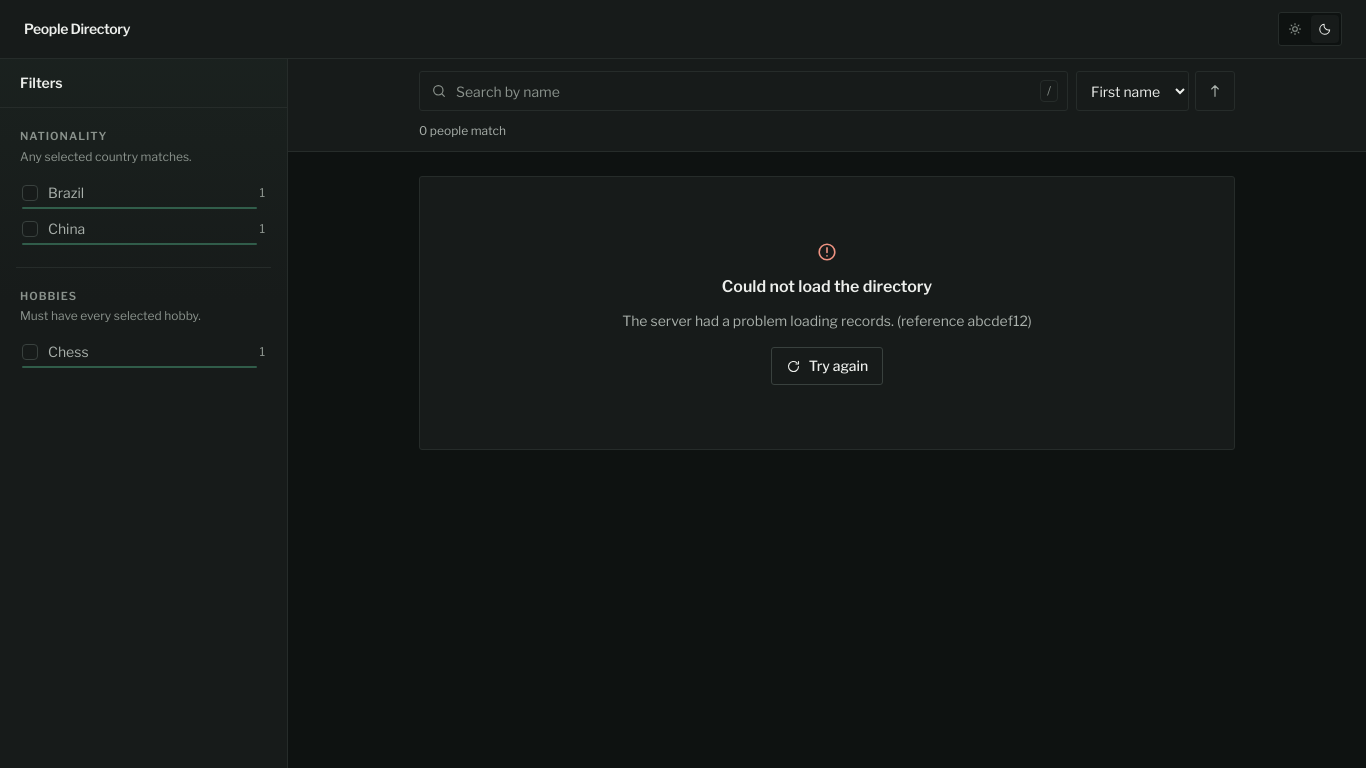
Scenario: App › shows the error state with a retry when the list fails
Expected: the message shows "Could not load the directory", x1=722 y1=277 x2=932 y2=296
Expected: the message shows "reference abcdef12", x1=622 y1=312 x2=1032 y2=329
What coordinates should you click on to do the following:
click the button "Try again"
I would click on:
 (827, 366)
Its box is x1=771 y1=347 x2=883 y2=385.
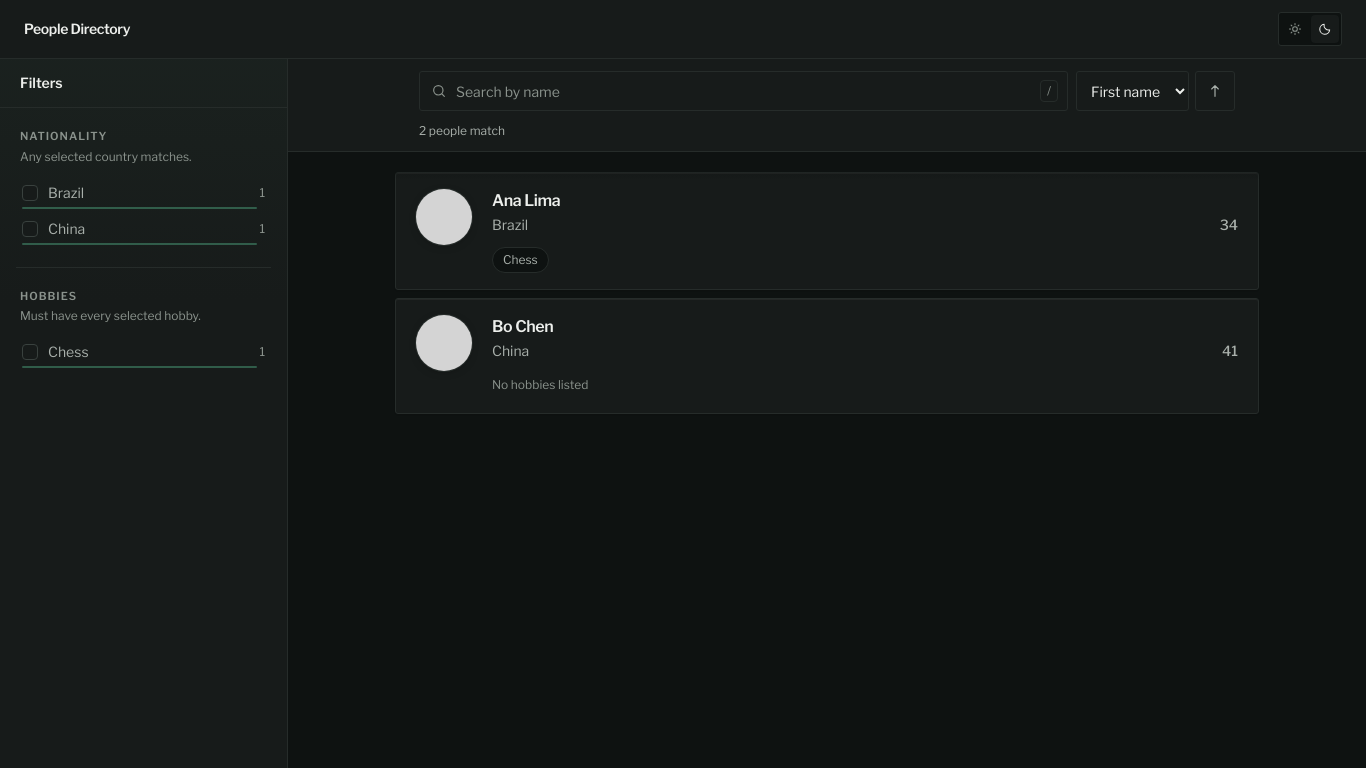
Result: the text "2 people match" is shown at x1=419 y1=123 x2=505 y2=138
